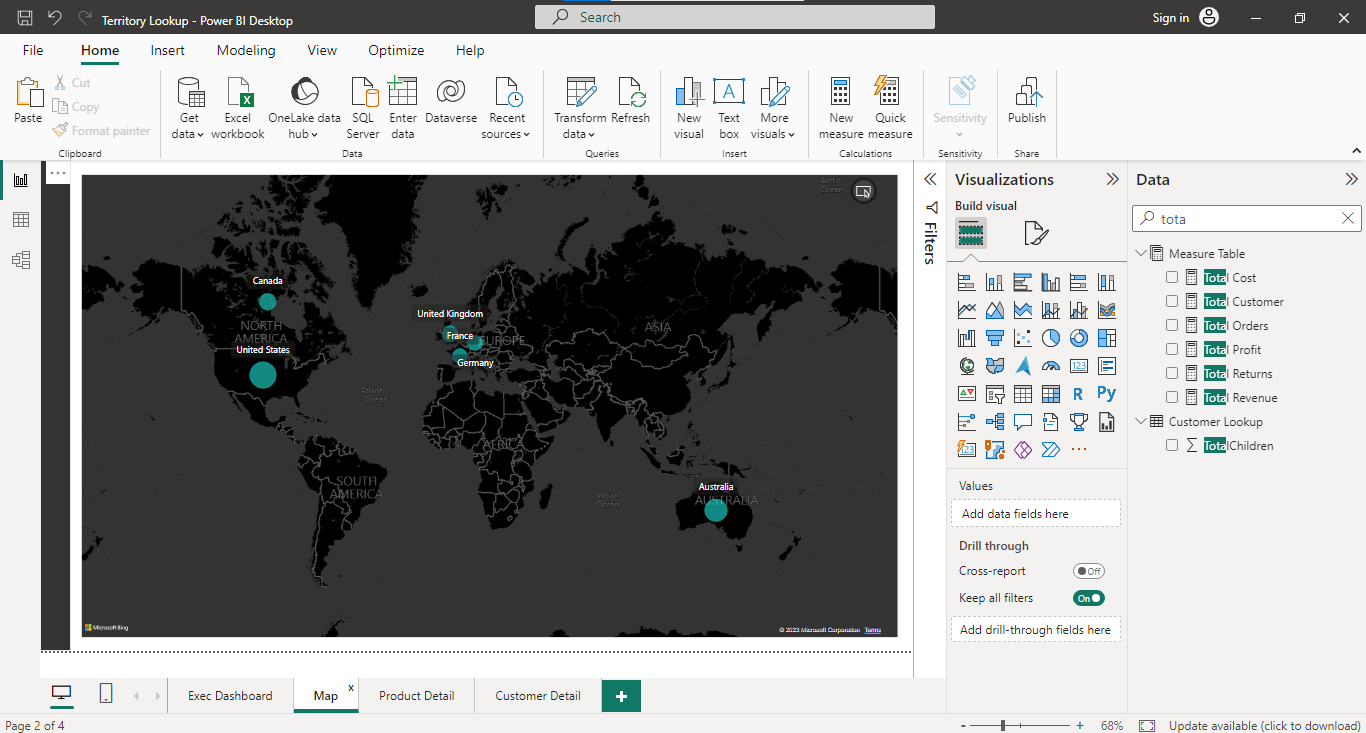

The page's visual inventory and layout, read from the dashboard file:
{"tool":"powerbi","page":{"name":"Map","canvas":[1280,720],"ordinal":1},"visuals":[{"type":"map","fields":{"Category":["Territory Lookup.Country"],"Size":["Measure Table.Total Orders"]},"box":[55.7,16.1,1206.7,689.1],"z":0},{"type":"shape","title":"Left Nav Background","box":[0,0,45,720],"z":1}]}

Visuals, with their boxes on the page's 1280x720 design canvas (x1, y1, x2, y2). These are canvas units, not pixel positions in the 1366x733 screenshot, which may show the page scaled, cropped or inside an application window:
map - Territory Lookup.Country x Measure Table.Total Orders: [left=56, top=16, right=1262, bottom=705]
"Left Nav Background" shape: [left=0, top=0, right=45, bottom=720]
